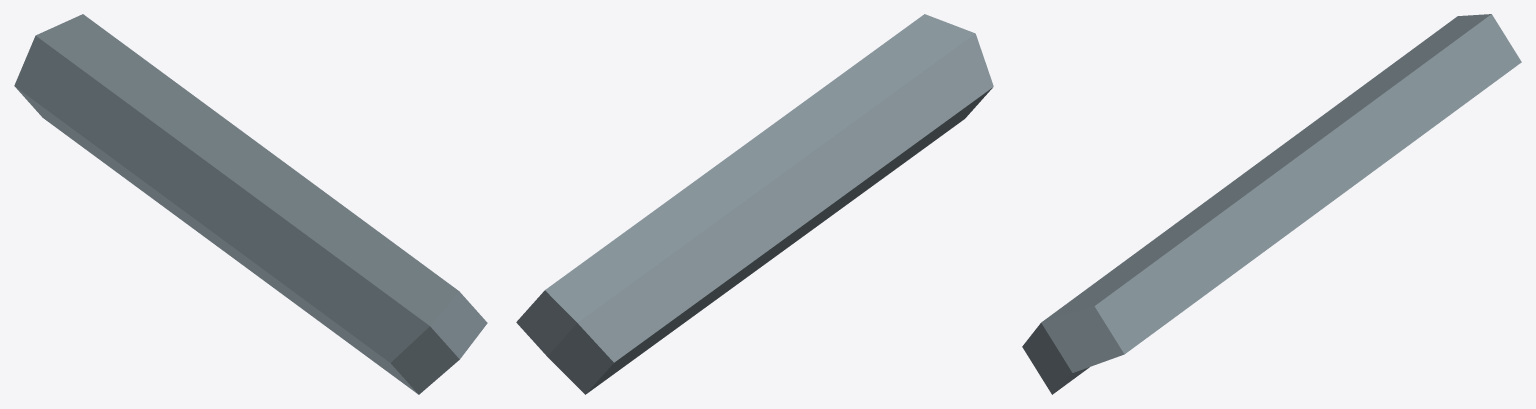
File: MaquinadeEscrever (CorEmy)1 (1).glb
3 renders of one model, left to right at view 1: azimuth 30°, elevation 25°; view 2: azimuth 150°, elevation 25°; view 3: azimuth 330°, elevation 25°, orthographic. The views are drawn at different scales.
Visible parts, largest first — view 1: Space; view 2: Space; view 3: Space.
Boxes of the visible parts, <box> form: Space: <box>14,14,487,394</box>; Space: <box>516,14,993,394</box>; Space: <box>1022,14,1521,394</box>.
Bounding box in the file's own units: 0.1037 × 0.0973 × 0.7278.
